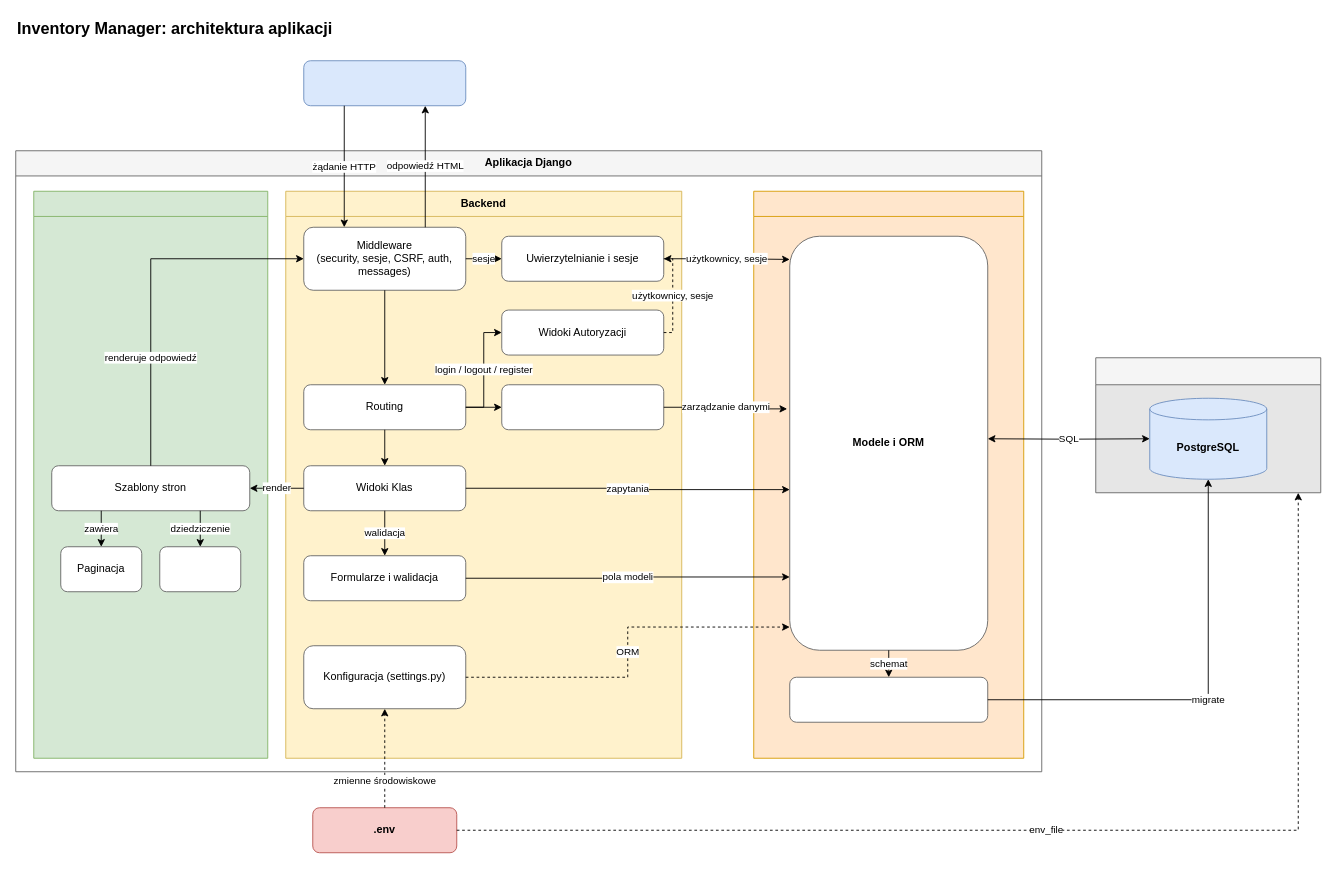
Image size: 1337x869. Some labels were removed from this diagram. Here are the shapes that lost their labels. From the top down, the box of each, then its label:
(303, 60, 466, 106): Przeglądarka
(501, 384, 664, 430): Panel administracyjny
(1095, 357, 1321, 493): Docker Compose
(33, 190, 268, 758): Frontend
(753, 190, 1024, 758): Baza danych
(159, 546, 241, 592): Szablon bazowy
(789, 676, 988, 722): Migracje
